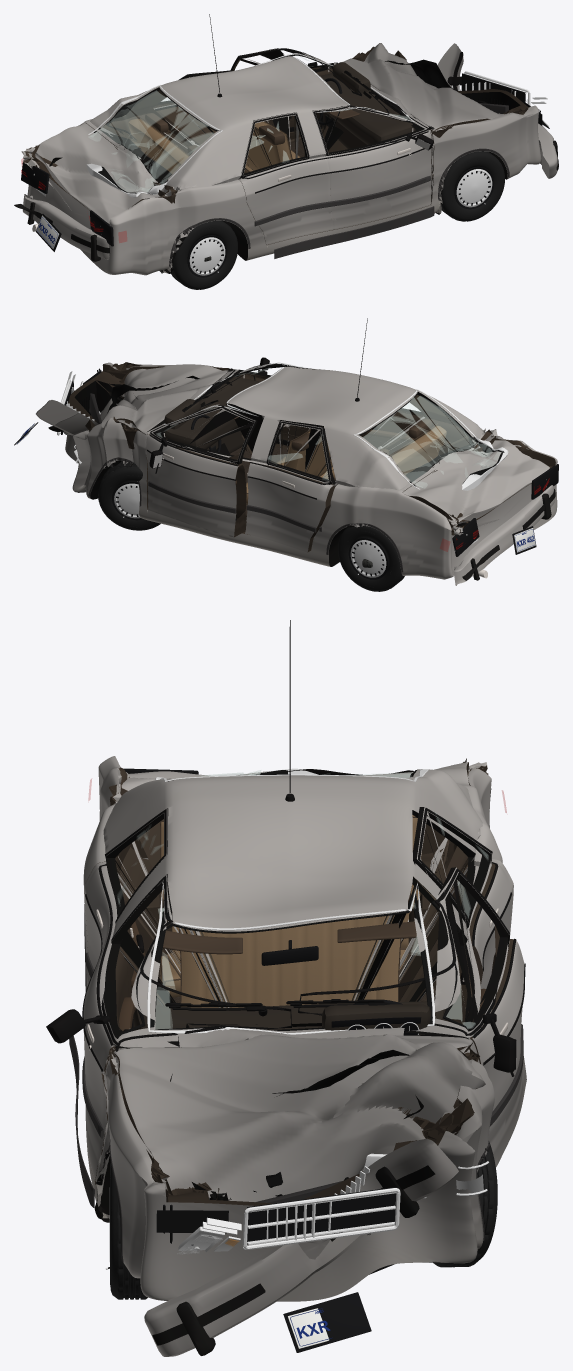
Rendered from sedan87_front_corner_d2.glb.
3 views of the same model, one above another, from view 1: azimuth 30°, elevation 25°; view 2: azimuth 150°, elevation 25°; view 3: azimuth 270°, elevation 25° (orthographic). The views are drawn at different scales.
Visible parts, largest first — view 1: Body, Interior, Door_FR, Glass, Trunk, Door_RR, Hood, Wheel_FR_mesh, Wheel_RR_mesh, Trim, Ends, Bumper_R (+5 smaller); view 2: Body, Door_FL, Glass, Interior, Trunk, Door_RL, Hood, Wheel_RL_mesh, Bumper_R, Wheel_FL_mesh, Ends, Trim_FL (+7 smaller); view 3: Body, Hood, Interior, Ends, Bumper_F, Door_FL, Door_FR, Glass, Door_RL, Trim_FR, Trim_FL, Trim (+6 smaller).
Part boxes in pixels (x1,y1,x2,y2): Body: [21, 46, 541, 275]; Interior: [128, 62, 415, 173]; Door_FR: [312, 106, 432, 229]; Glass: [86, 53, 414, 197]; Trunk: [31, 123, 165, 223]; Door_RR: [238, 112, 333, 245]; Hood: [340, 43, 504, 131]; Wheel_FR_mesh: [441, 151, 504, 221]; Wheel_RR_mesh: [171, 220, 237, 289]; Trim: [169, 14, 509, 267]; Ends: [21, 71, 549, 251]; Bumper_R: [14, 194, 109, 261]; Body: [65, 362, 557, 579]; Door_FL: [145, 407, 257, 537]; Glass: [164, 362, 508, 490]; Interior: [164, 377, 446, 503]; Trunk: [403, 436, 549, 525]; Door_RL: [245, 420, 335, 552]; Hood: [100, 364, 230, 434]; Wheel_RL_mesh: [338, 526, 404, 591]; Bumper_R: [453, 485, 555, 585]; Wheel_FL_mesh: [98, 462, 160, 530]; Ends: [14, 368, 558, 556]; Trim_FL: [147, 400, 254, 520]; Body: [83, 756, 502, 1301]; Hood: [111, 1034, 485, 1201]; Interior: [133, 815, 446, 1047]; Ends: [123, 768, 491, 1352]; Bumper_F: [144, 1138, 458, 1356]; Door_FL: [405, 867, 526, 1167]; Door_FR: [83, 874, 179, 1181]; Glass: [147, 768, 435, 1034]; Door_RL: [413, 807, 513, 1024]; Trim_FR: [46, 876, 291, 1138]; Trim_FL: [298, 868, 525, 1126]; Trim: [69, 620, 490, 1261].
Bounding box in the file's own units: 4.92 × 2.14 × 2.03.
Materials: 33 (5 with a texture image).
